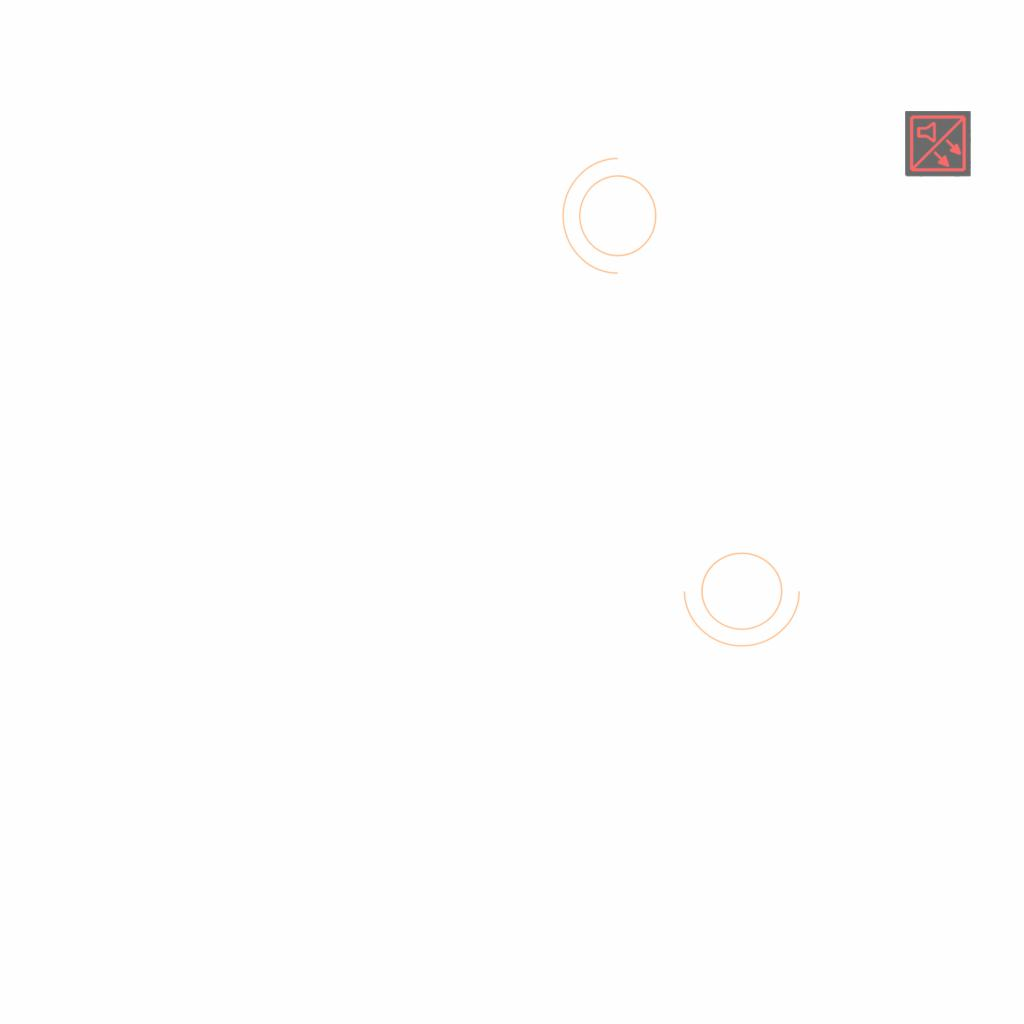OKW_Multisensormelder_(Kombination_optischer_Rauch-Kahlenmonoxid_Waerme-Melder): (905, 111, 971, 177)
Scheinwerfer_fuer_Alarmbeleuchtung: (679, 540, 811, 652), (557, 153, 669, 285)
